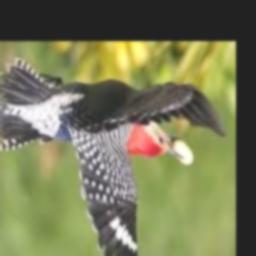Woodpecker: (0, 58, 227, 256)
